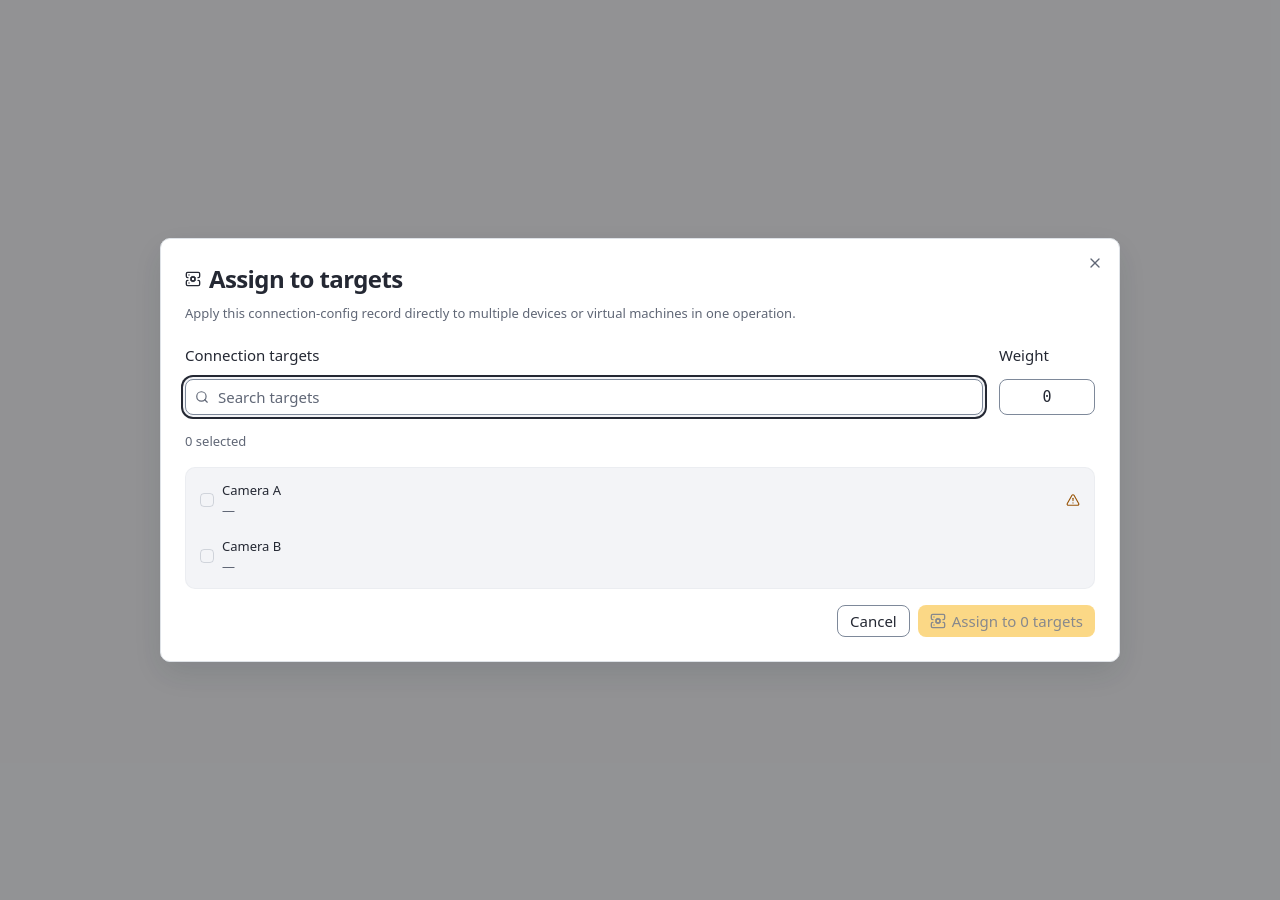
Test case: AssignToTargetsDialog › warns when a selected target has a competing direct assignment
Step 1. Click the button "Camera A —" → (252, 490), box x1=192 y1=474 x2=1088 y2=526
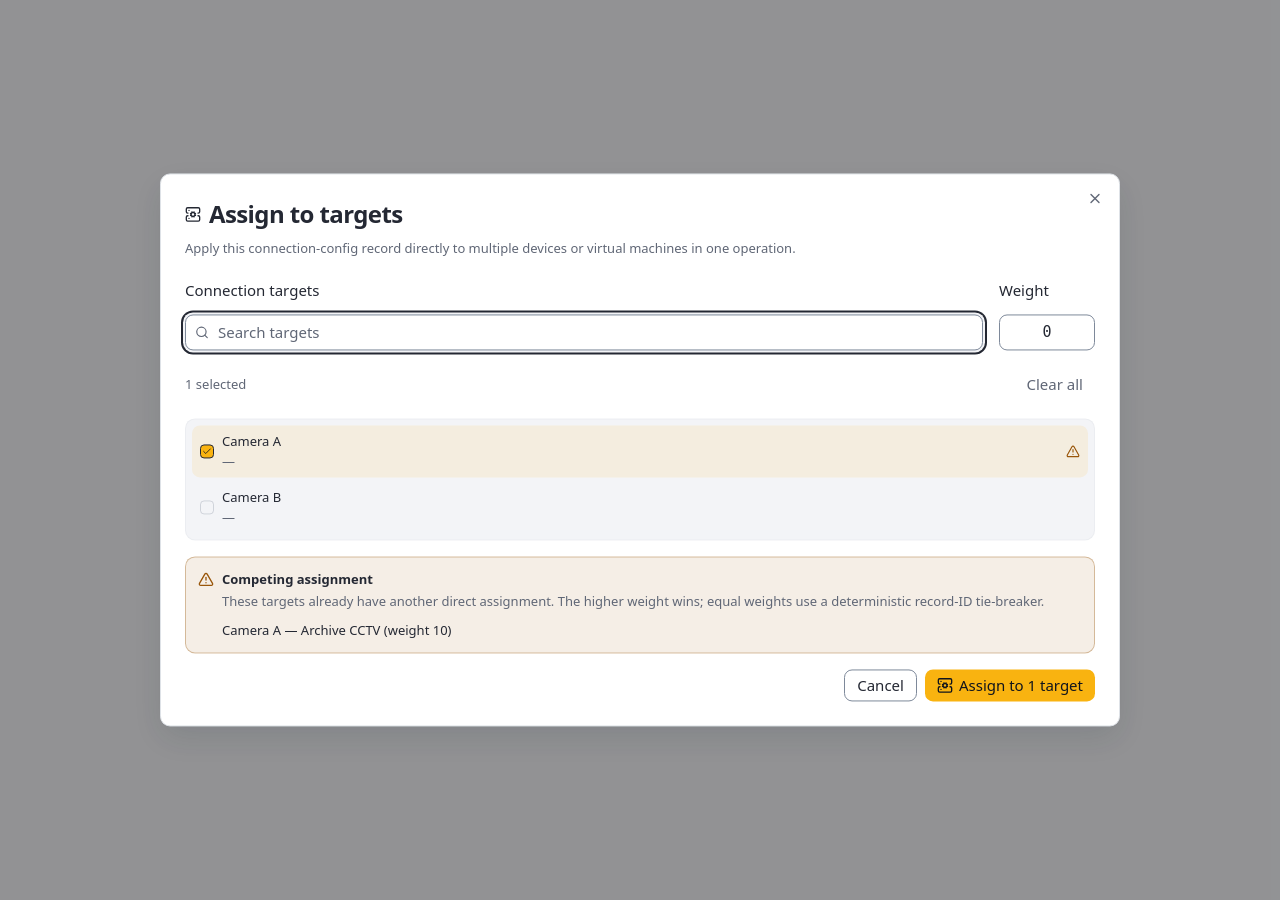
Expected: the list item "Camera A — Archive CCTV (weight 10)" is shown, x1=222 y1=622 x2=452 y2=640
Expected: the text "Competing assignment" is shown, x1=222 y1=570 x2=373 y2=588
